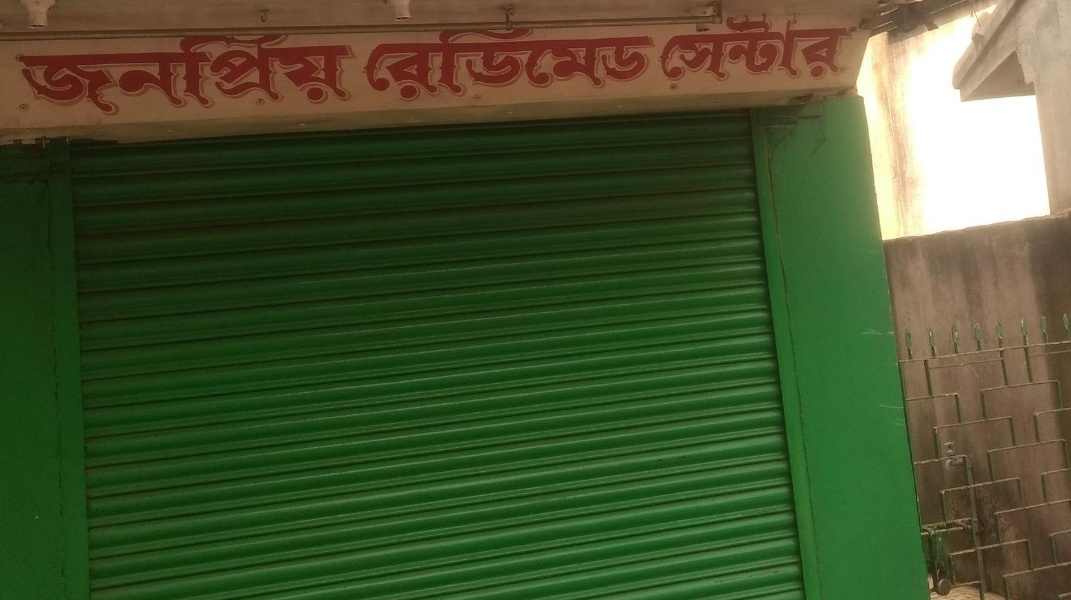text: (17, 30, 32, 116), (33, 30, 48, 116), (49, 30, 64, 116), (65, 30, 80, 116), (81, 30, 96, 116), (97, 30, 112, 116), (113, 30, 128, 116), (129, 30, 144, 116), (145, 30, 160, 116), (161, 30, 176, 116), (177, 30, 192, 116), (193, 30, 208, 116), (209, 30, 224, 116), (225, 30, 240, 116), (241, 30, 256, 116), (257, 30, 272, 116), (273, 30, 288, 116), (289, 30, 304, 116), (305, 30, 320, 116), (321, 30, 336, 116), (337, 30, 352, 116), (369, 23, 384, 103), (385, 23, 400, 103), (401, 23, 416, 103), (417, 23, 432, 103), (433, 23, 448, 103), (449, 23, 464, 103), (465, 23, 480, 103), (481, 23, 496, 103), (497, 23, 512, 103), (513, 23, 528, 103), (529, 23, 544, 103), (545, 23, 560, 103), (561, 23, 576, 103), (577, 23, 592, 103), (593, 23, 608, 103), (609, 23, 624, 103), (625, 23, 640, 103), (673, 14, 688, 85), (689, 14, 704, 85), (705, 14, 720, 85), (721, 14, 736, 85), (737, 14, 752, 85), (753, 14, 768, 85), (769, 14, 784, 85), (785, 14, 800, 85), (801, 14, 816, 85), (817, 14, 832, 85), (833, 14, 848, 85), (641, 23, 654, 103), (660, 14, 672, 85), (849, 14, 857, 85), (353, 30, 359, 116), (366, 23, 368, 103)
